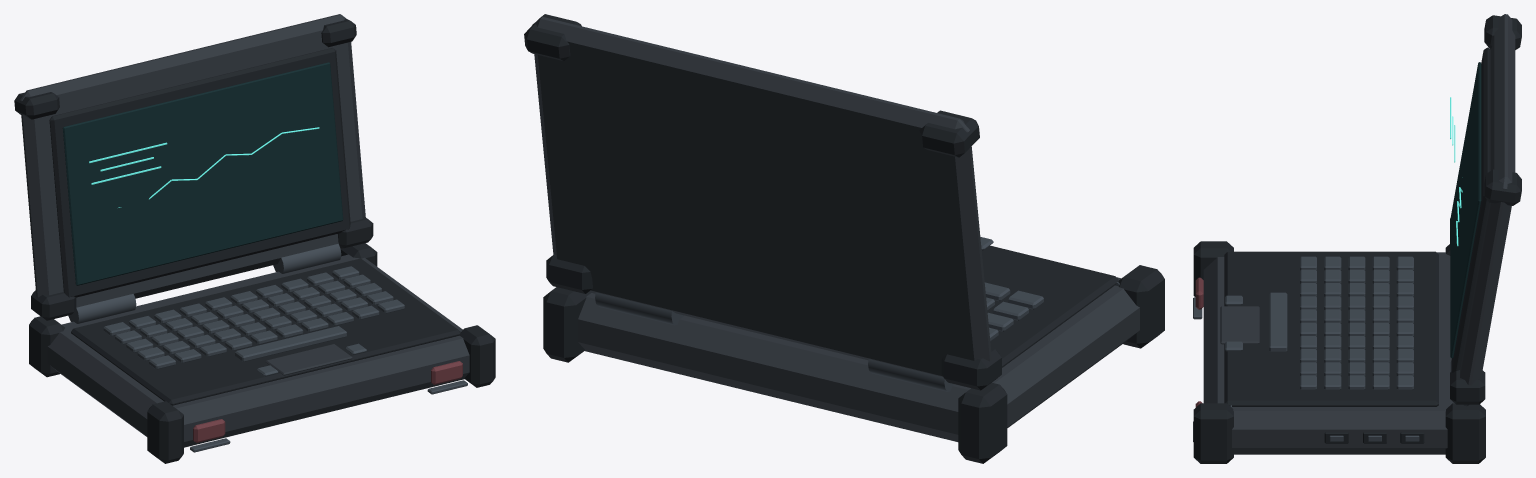
Rendered from field-cyberdeck.glb.
3 views of the same model, side by side, from view 1: azimuth 30°, elevation 25°; view 2: azimuth 150°, elevation 25°; view 3: azimuth 270°, elevation 25° (orthographic). The views are drawn at different scales.
Visible parts, largest first — view 1: field-cyberdeck; view 2: field-cyberdeck; view 3: field-cyberdeck.
Boxes of the visible parts, x1,y1,x2,y2 form: field-cyberdeck: [14, 14, 495, 463]; field-cyberdeck: [524, 14, 1164, 463]; field-cyberdeck: [1193, 14, 1521, 463].
Size of the model in its own units: 0.41 by 0.3111 by 0.3261.
